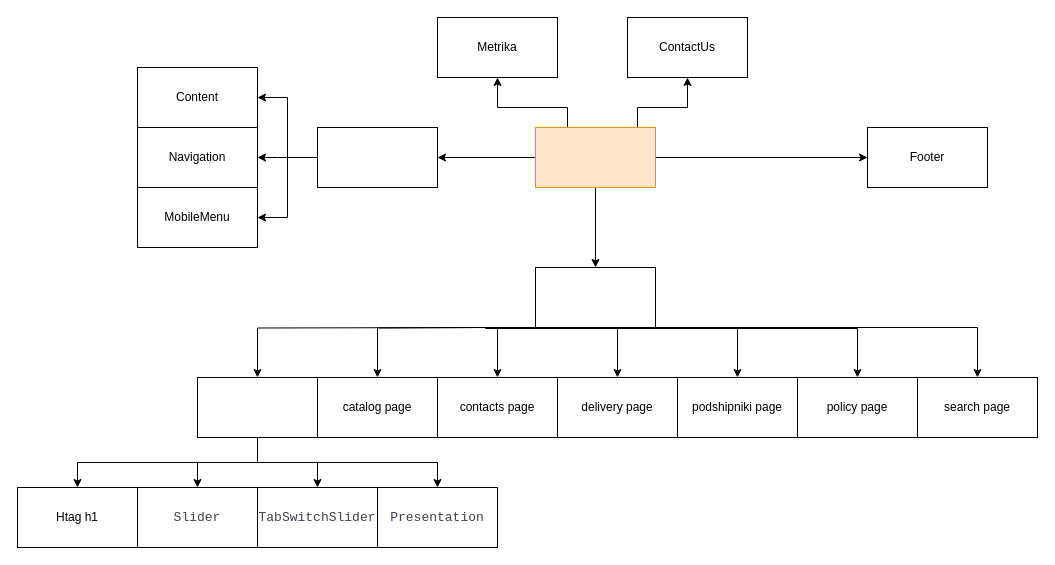
Image size: 1055x565. Some labels were removed from this diagram. The centre of each missing label's shape, as x and y in pixels:
"Children" belongs at [595,297].
"Header" belongs at [377,157].
"layout" belongs at [595,157].
"main page" belongs at [257,407].
